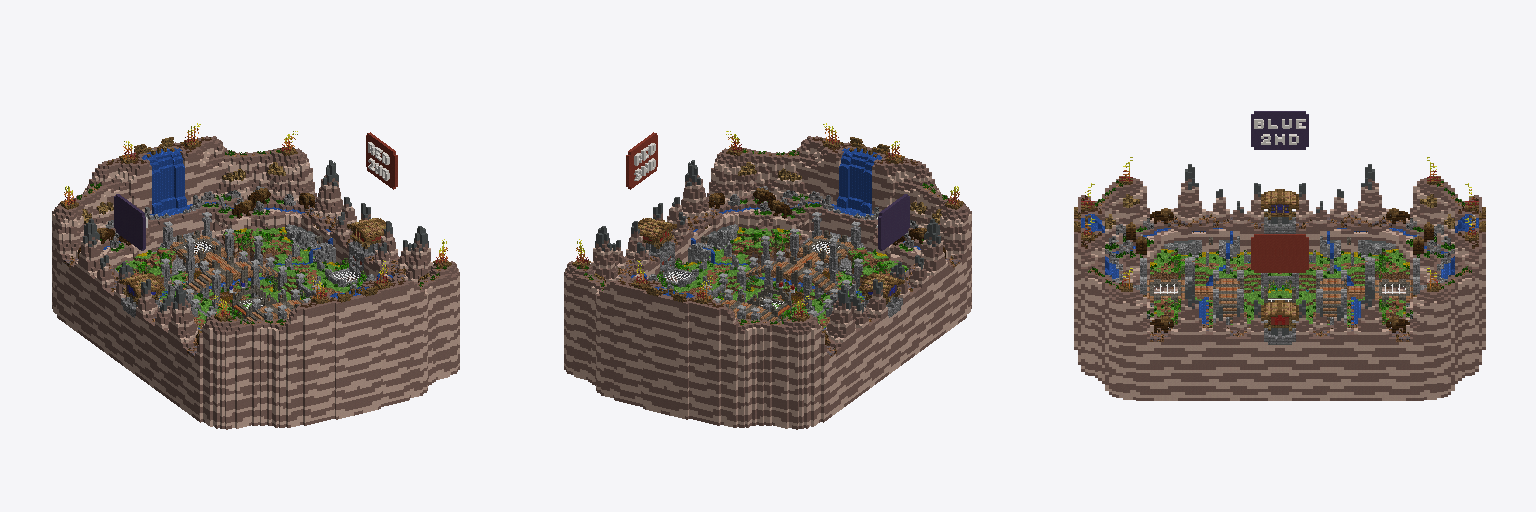
The picture shows the model from 3 angles: view 1: azimuth 30°, elevation 25°; view 2: azimuth 150°, elevation 25°; view 3: azimuth 270°, elevation 25°; orthographic projection.
Bounding box in the file's own units: 85.25 × 53 × 119.
Materials: 69 (68 with a texture image).